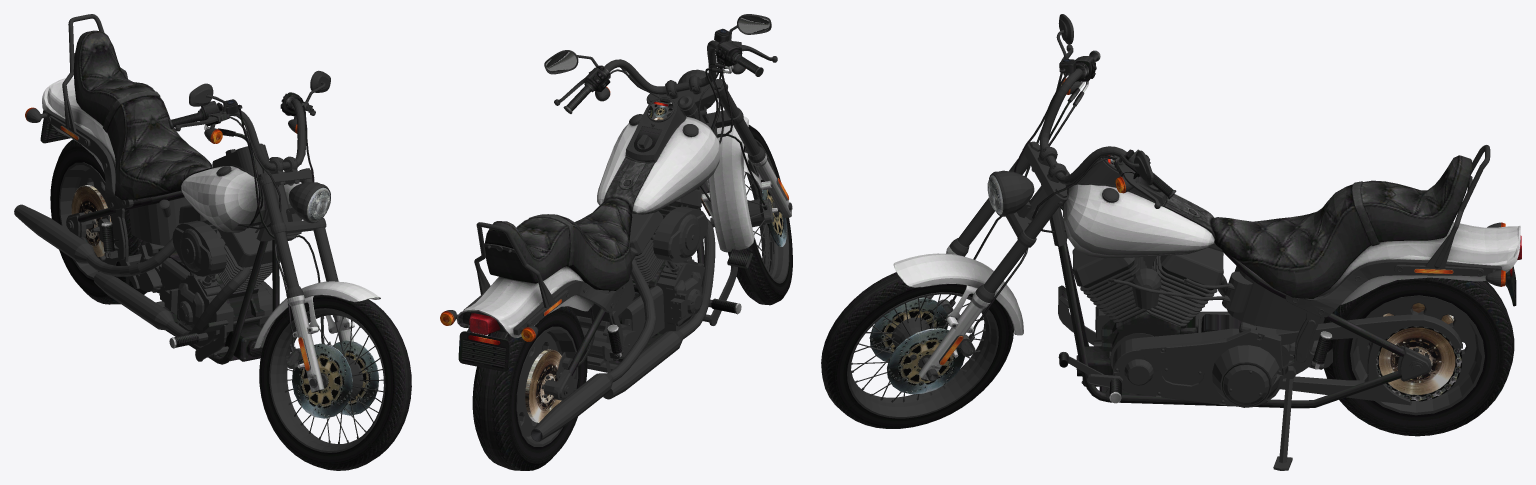
File: motor.glb
3 views of the same model, side by side, from view 1: azimuth 30°, elevation 25°; view 2: azimuth 150°, elevation 25°; view 3: azimuth 270°, elevation 25° (orthographic). The views are drawn at different scales.
Parts seen in each view (by area): view 1: Harley; view 2: Harley; view 3: Harley.
Boxes of the visible parts, x1,y1,x2,y2 form: Harley: (14,14,411,470); Harley: (440,14,792,470); Harley: (821,14,1521,470).
Size of the model in its own units: 23.46 by 39.87 by 66.46.
Materials: 1 (1 with a texture image).
